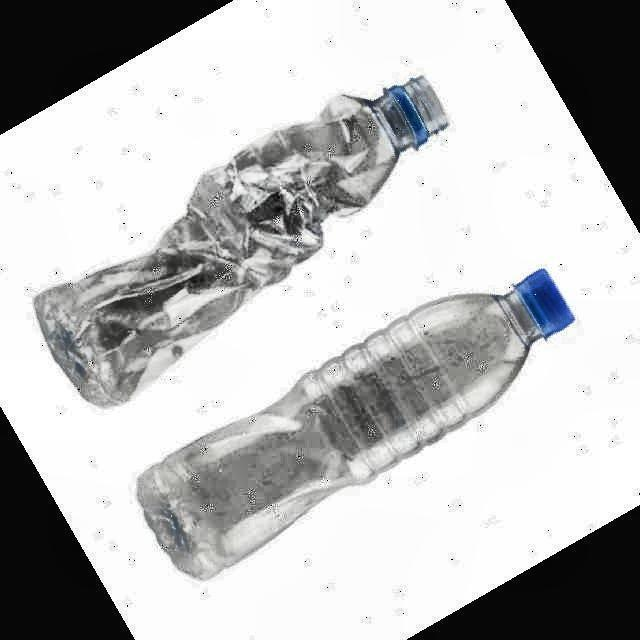plastic: (34, 76, 447, 407), (137, 269, 573, 578)
